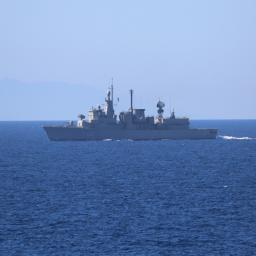Fragata: (42, 73, 220, 144)
